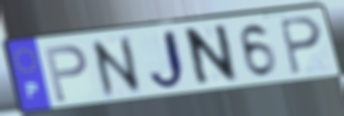6: (237, 22, 280, 80)
J: (146, 27, 189, 94)
N: (87, 34, 147, 102), (185, 21, 241, 91)
P: (276, 15, 325, 78), (42, 42, 89, 104)
